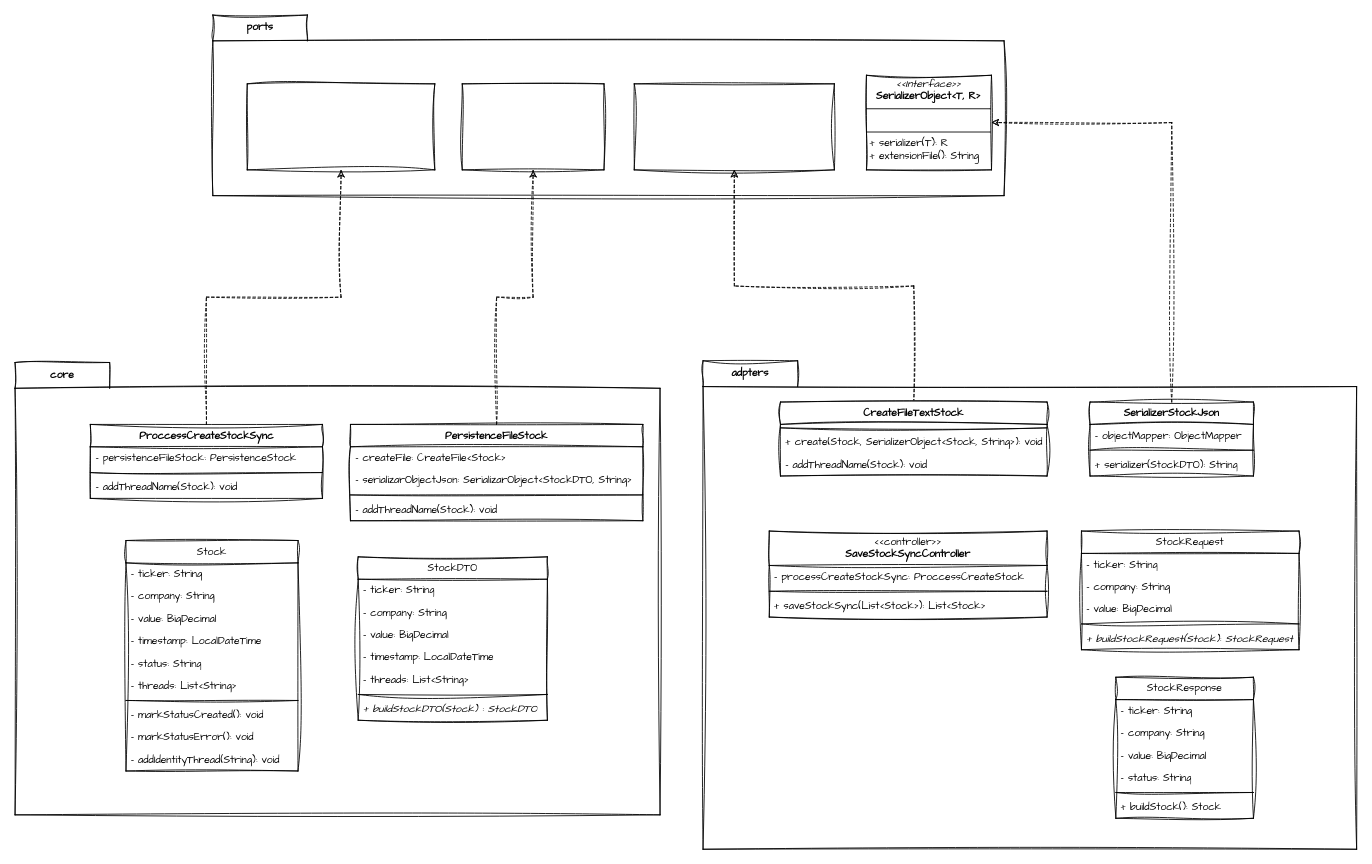
This 1372x864 diagram has some shape labels left out. The shapes that lost their labels are listed below. From the top down, each one's centre as x and y in pixels, then its label:
At (340,126): "<<Interface>> ProccessCreateStock + process(List<Stock>): List<Stock>".
At (532,126): "<<Interface>> PersistenceStock + save(Stock): Stock".
At (733,126): "<<Interface>> CreateFile<T> + create(T, SerializerObject<T,R>): void".
